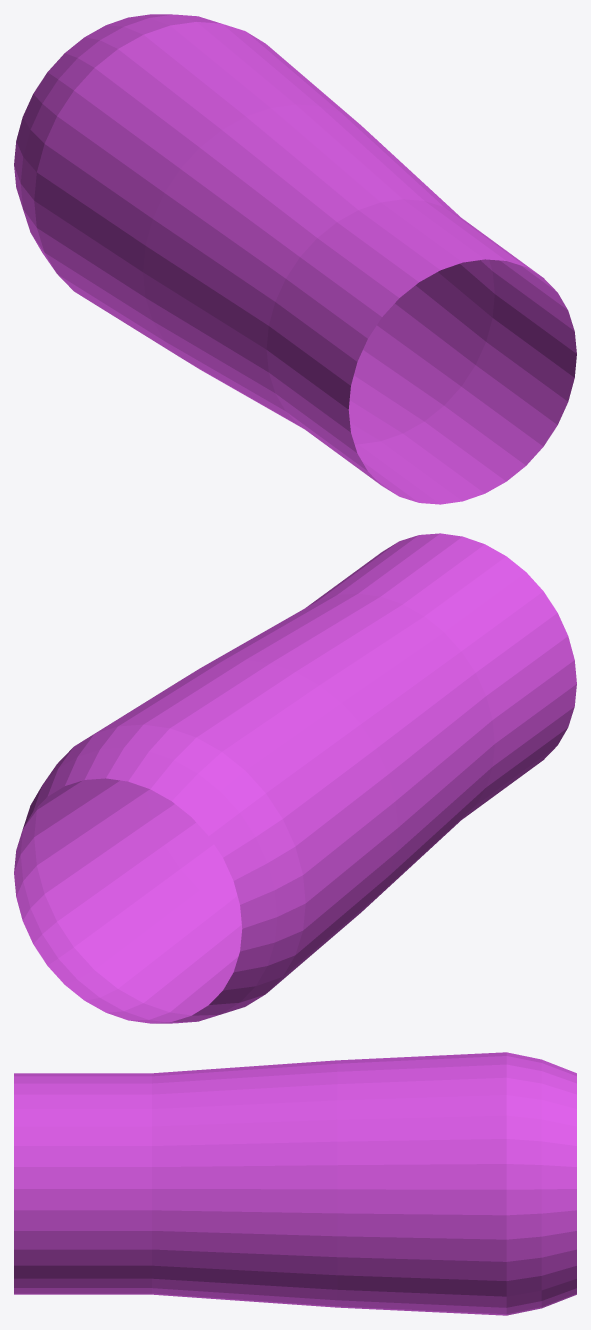
Rendered from Area3.Tunnel3.placeholder.fbx.
3 views of the same model, one above another, from view 1: azimuth 30°, elevation 25°; view 2: azimuth 150°, elevation 25°; view 3: azimuth 270°, elevation 25° (orthographic). The views are drawn at different scales.
Visible parts, largest first — view 1: Cylinder; view 2: Cylinder; view 3: Cylinder.
Part boxes in pixels (x1,y1,x2,y2): Cylinder: (14,14,576,504); Cylinder: (14,533,576,1023); Cylinder: (14,1052,576,1315).
Size of the model in its own units: 93.86 by 93.86 by 200.
